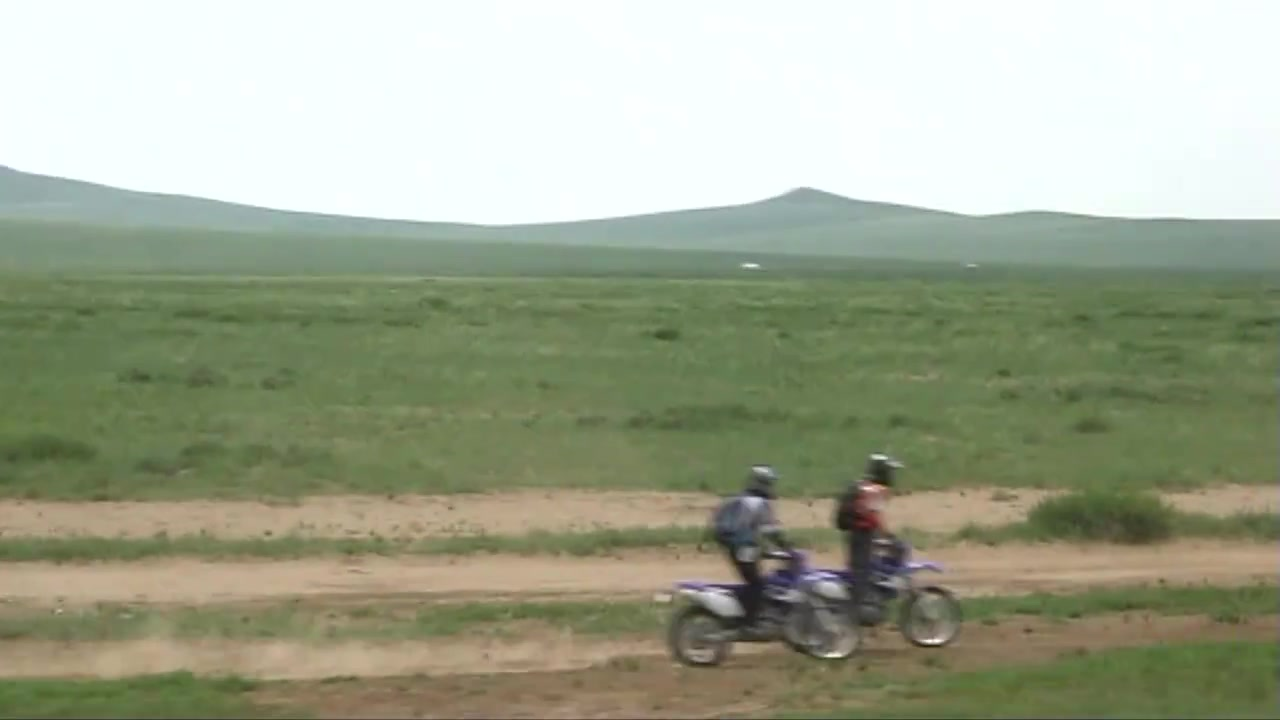motorbike: (666, 535, 869, 667), (797, 532, 968, 664)
